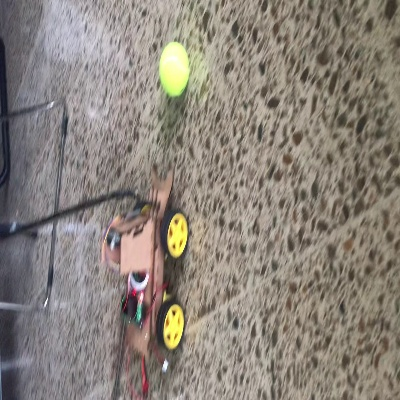Ball: (157, 41, 190, 96)
Robot: (101, 163, 190, 358)
